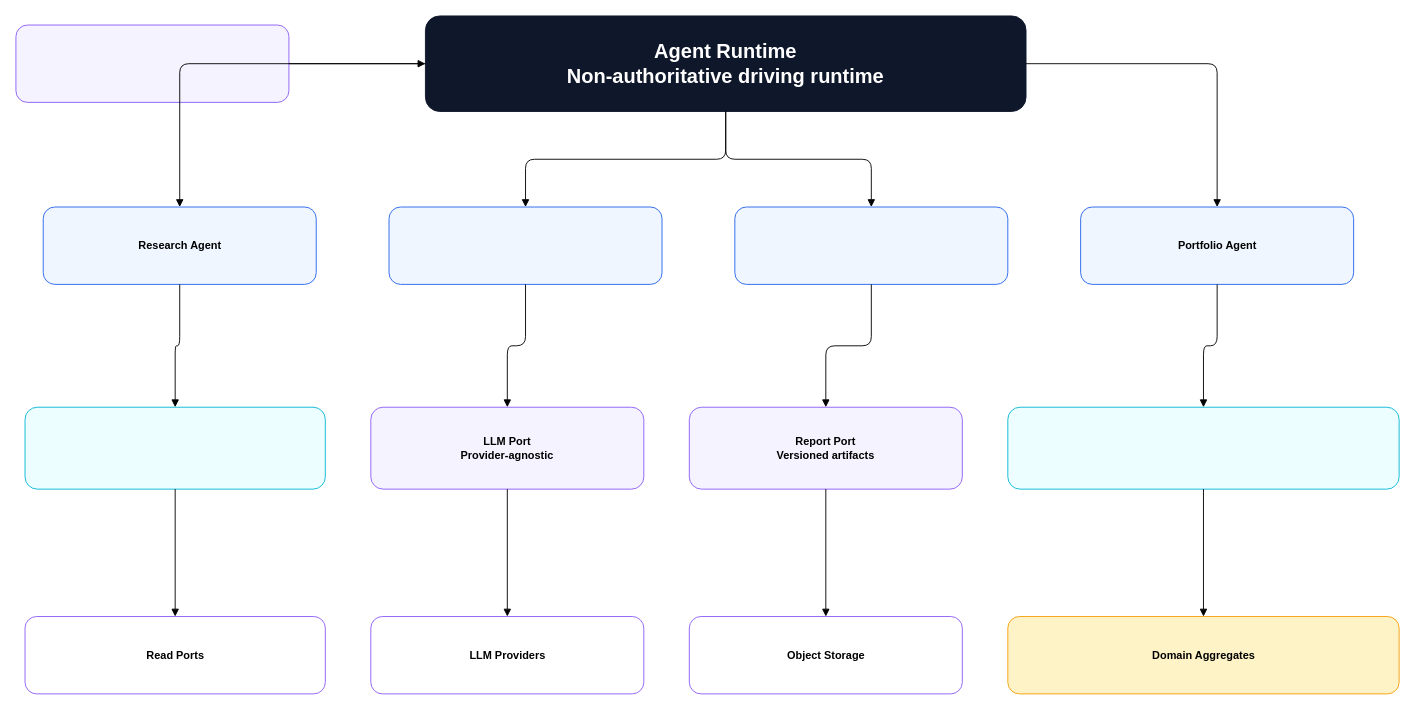
Image size: 1415x710. Some labels were removed from this diagram. Each missing label, with the box of its shape:
Application Commands Only path to state change: (1007, 406, 1399, 489)
Application Queries Authorized repository reads: (24, 406, 325, 489)
Domain / Integration Events: (15, 24, 289, 102)
Market Agent: (734, 206, 1008, 284)
Review Agent: (388, 206, 662, 284)
